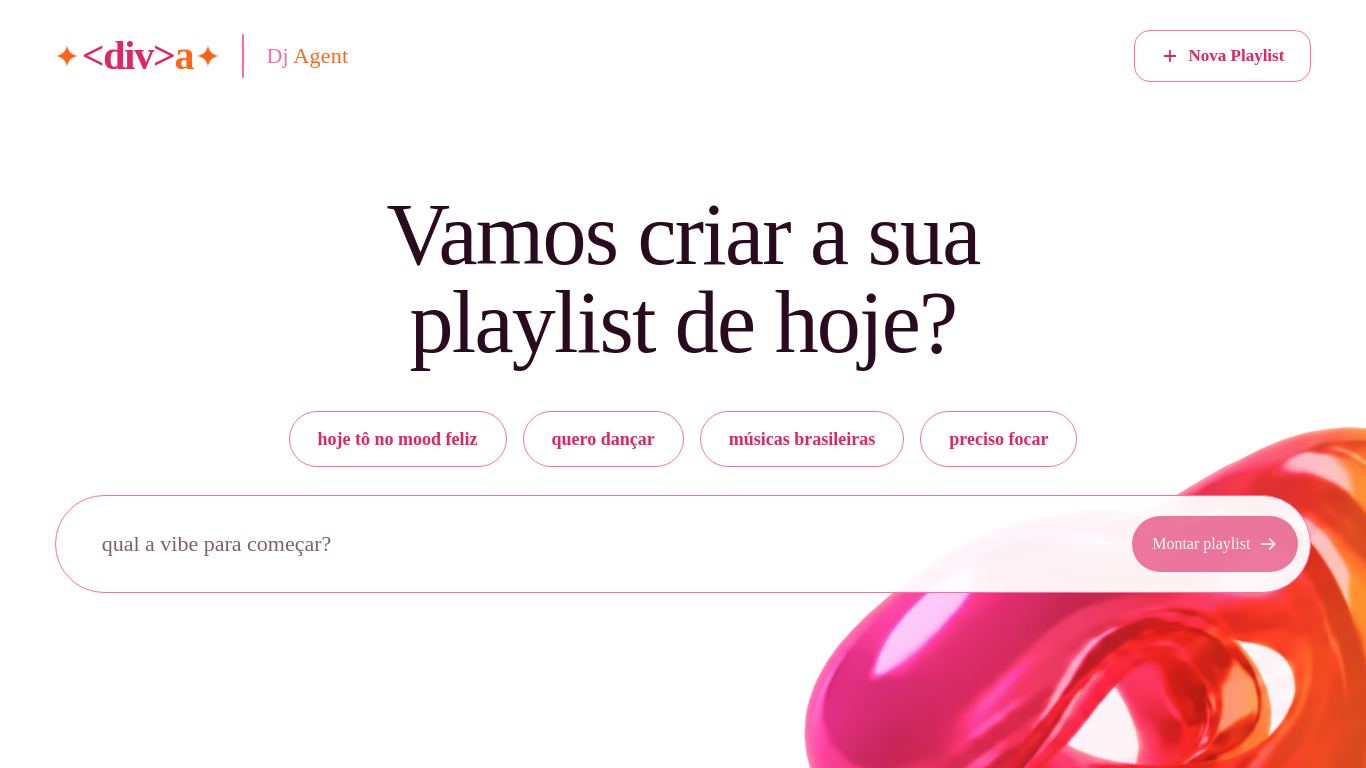
it: erro › o botão de tentar de novo reenvia o mesmo pedido
Type "quero dançar" into the field named "Descreva a vibe da sua playlist" at (594, 544), box [68,508,1120,580]
Then press Enter
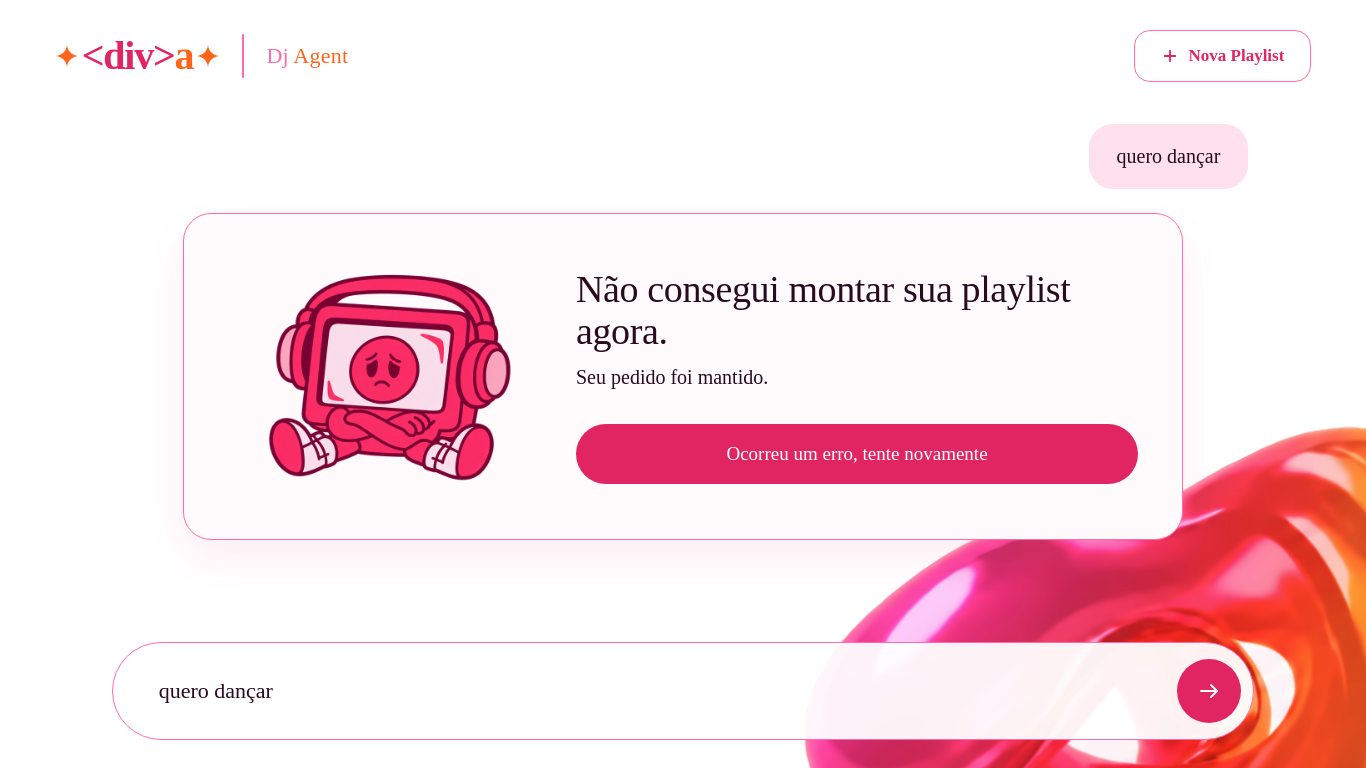
Result: the message is shown at [183,213,1183,540]
Click the button "Ocorreu um erro, tente novamente" at (857, 454), box [576,424,1138,484]
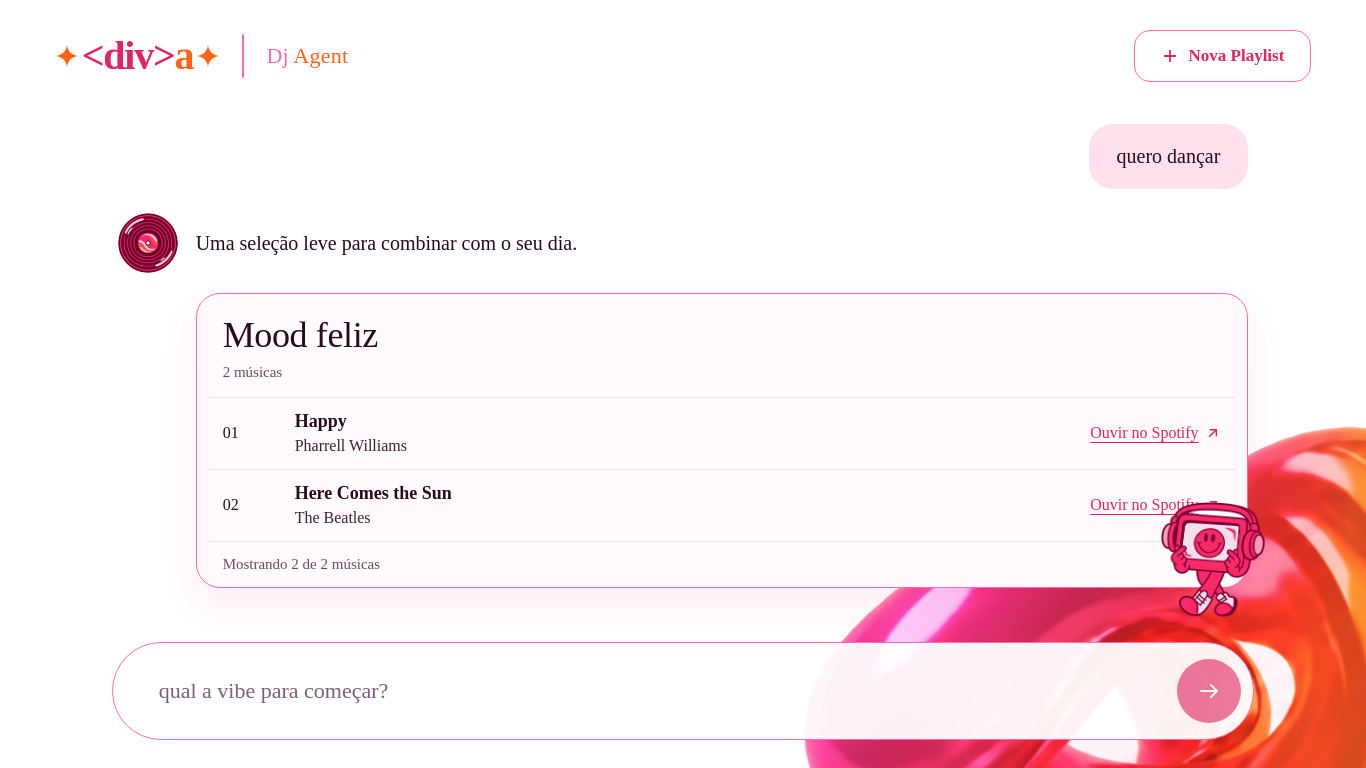
Result: the message is gone
